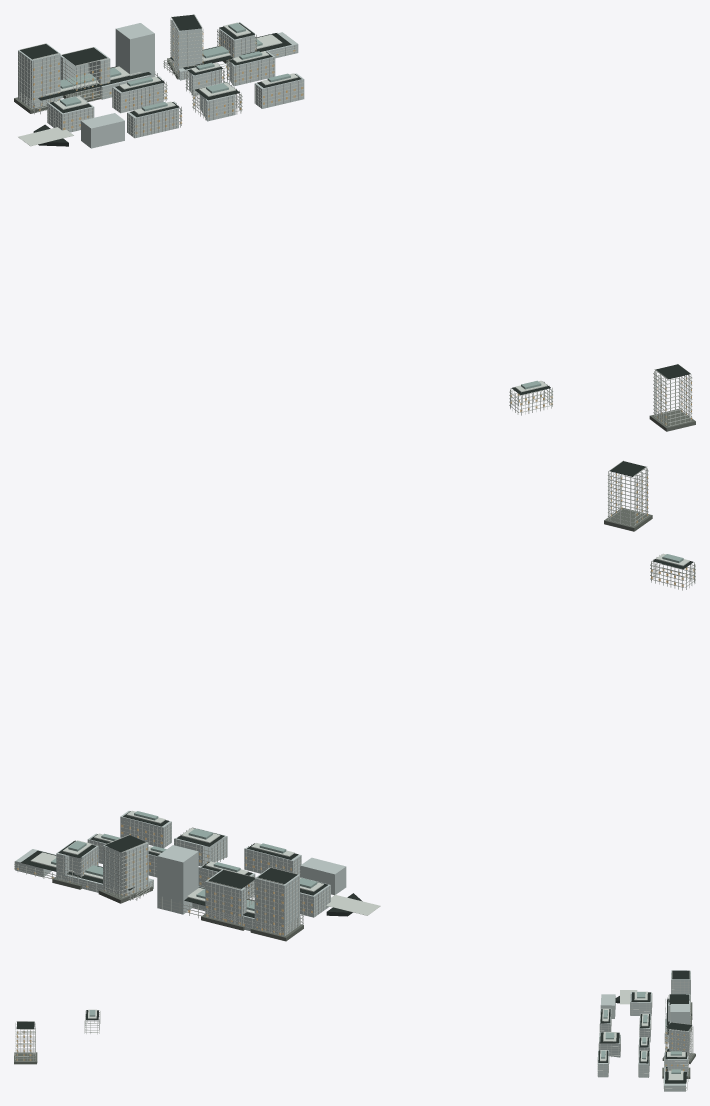
File: software-base-1.glb
The picture shows the model from 3 angles, top to bottom: view 1: azimuth 30°, elevation 25°; view 2: azimuth 150°, elevation 25°; view 3: azimuth 270°, elevation 25°; orthographic projection. The views are drawn at different scales.
Parts seen in each view (by area): view 1: envelope, fins, floor_bands, roof_deck, crown_box, crown_box.001, podium, night_windows; view 2: envelope, fins, floor_bands, roof_deck, podium, crown_box, crown_box.001, night_windows; view 3: envelope, roof_deck, floor_bands, fins, crown_box, crown_box.001, podium.
Part boxes in pixels (left/top/right/bottom): envelope: left=18, top=14, right=304, bottom=148; fins: left=18, top=18, right=691, bottom=425; floor_bands: left=18, top=20, right=692, bottom=426; roof_deck: left=20, top=14, right=690, bottom=395; crown_box: left=45, top=22, right=547, bottom=392; crown_box.001: left=60, top=23, right=541, bottom=389; podium: left=14, top=58, right=695, bottom=431; night_windows: left=33, top=28, right=691, bottom=424; envelope: left=15, top=811, right=346, bottom=935; fins: left=14, top=468, right=695, bottom=935; floor_bands: left=14, top=469, right=695, bottom=935; roof_deck: left=20, top=461, right=693, bottom=917; podium: left=52, top=507, right=652, bottom=941; crown_box: left=30, top=553, right=689, bottom=913; crown_box.001: left=51, top=554, right=683, bottom=910; night_windows: left=17, top=473, right=694, bottom=935; envelope: left=598, top=970, right=690, bottom=1091; roof_deck: left=16, top=970, right=691, bottom=1083; floor_bands: left=15, top=982, right=692, bottom=1090; fins: left=15, top=971, right=693, bottom=1091; crown_box: left=88, top=991, right=685, bottom=1080; crown_box.001: left=89, top=992, right=681, bottom=1073; podium: left=14, top=1002, right=695, bottom=1078.
Size of the model in its own units: 541 by 90.1 by 1568.
